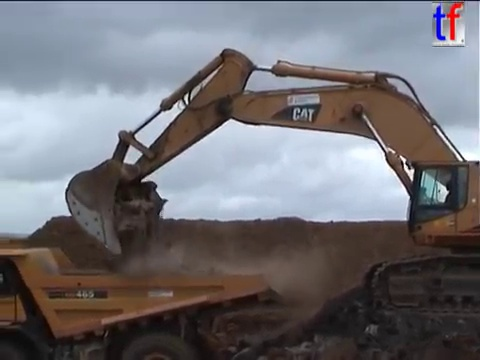excavator: (62, 43, 480, 319)
truck: (1, 236, 284, 360)
